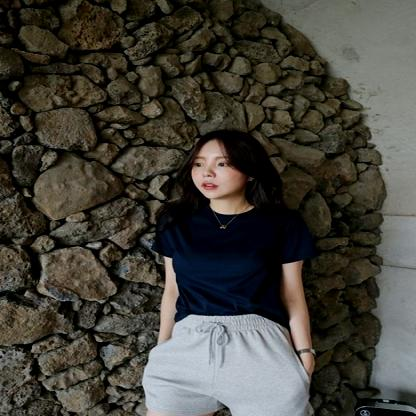dress: (149, 197, 320, 324)
jacket: (137, 312, 323, 416)
